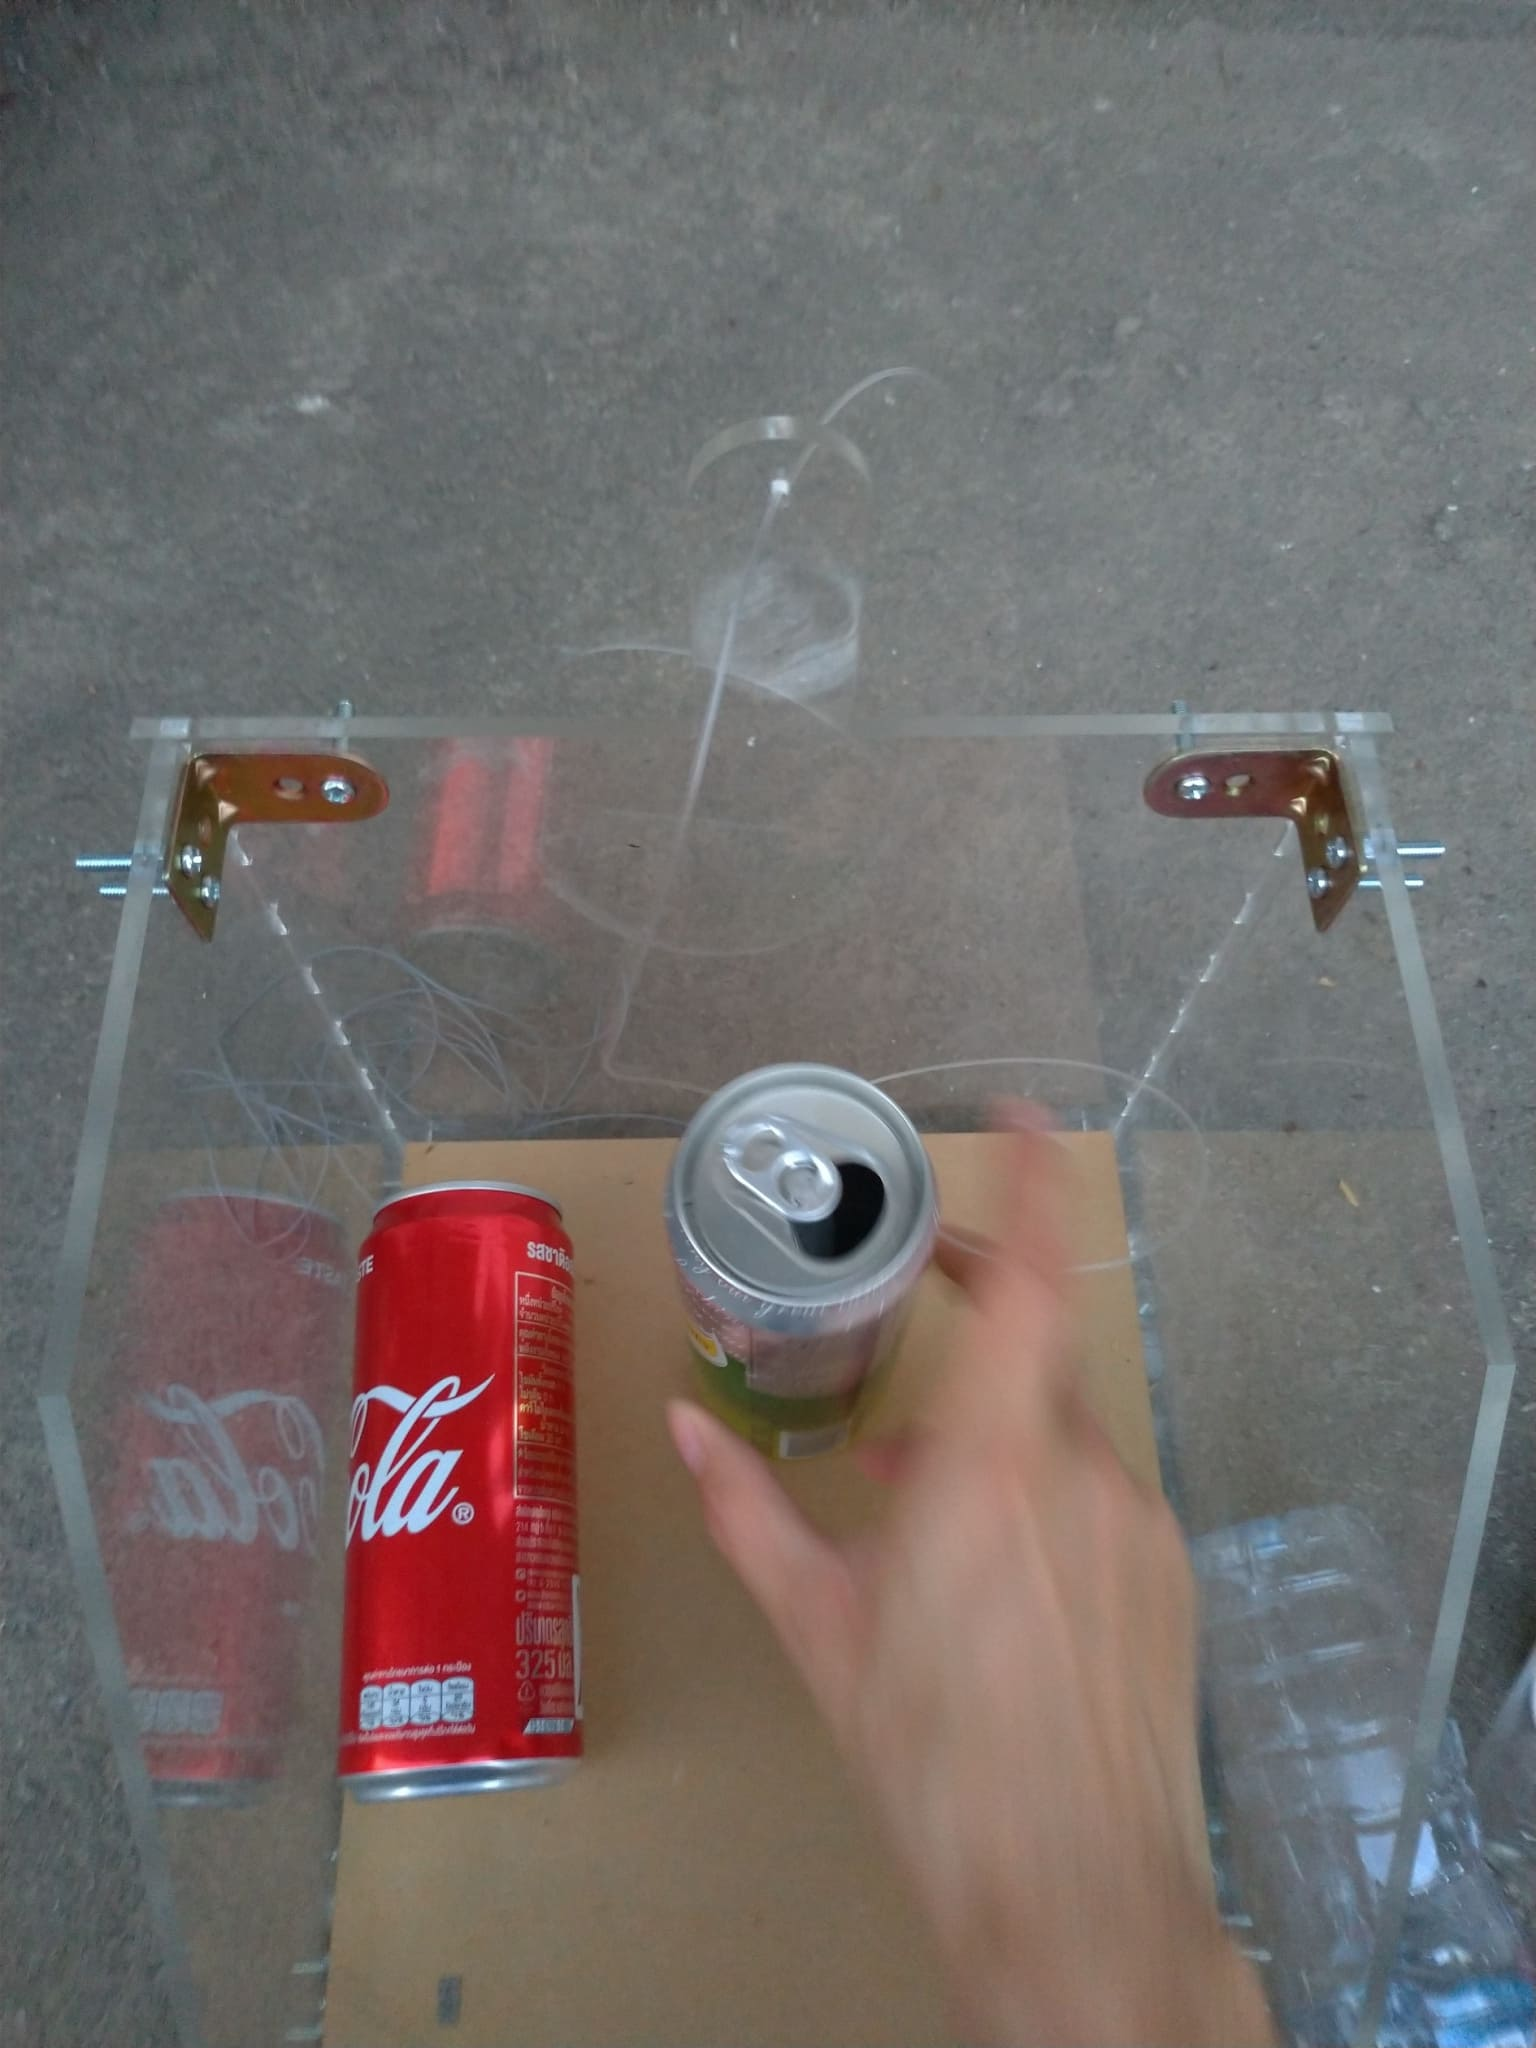AlCan: (344, 1184, 591, 1800), (662, 1068, 937, 1471)
PlasticBottle: (1158, 1500, 1528, 2048)
